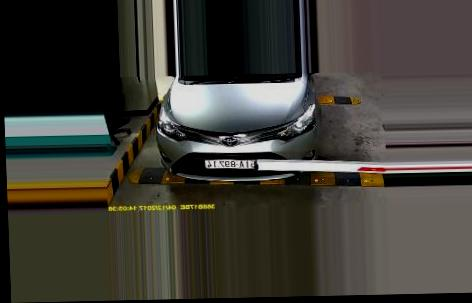License_Plate: (205, 156, 263, 172)
